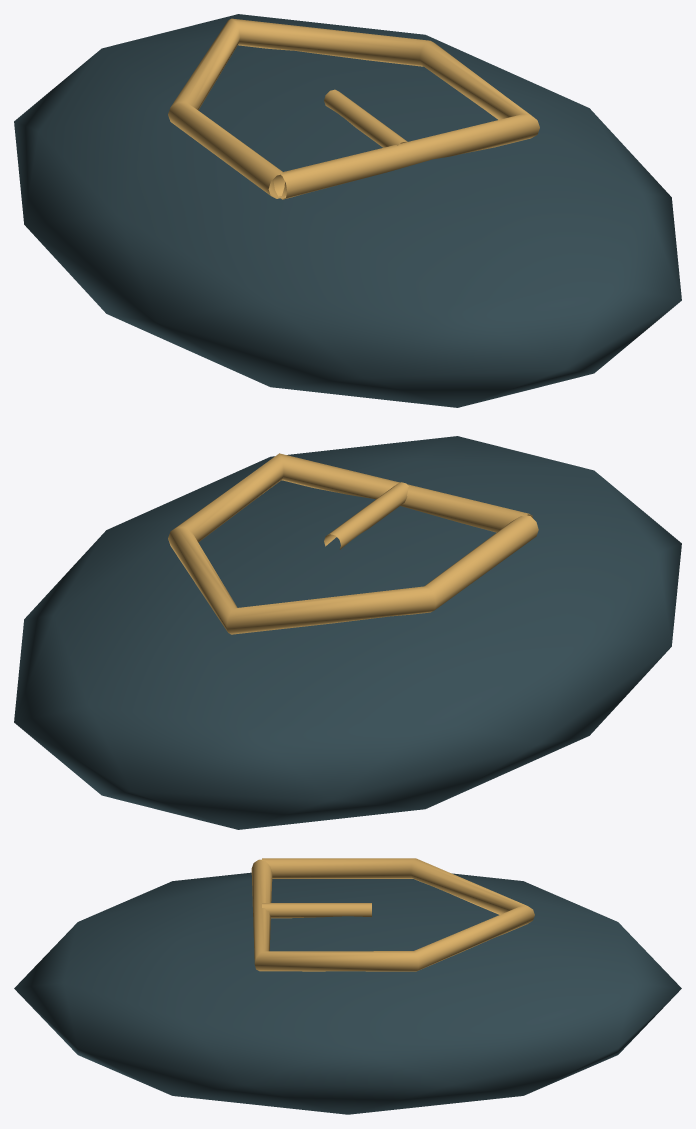
File: home-waystone-v1.glb
3 views of the same model, one above another, from view 1: azimuth 30°, elevation 25°; view 2: azimuth 150°, elevation 25°; view 3: azimuth 270°, elevation 25° (orthographic). The views are drawn at different scales.
Visible parts, largest first — view 1: Waystone, HomeRune, RuneDoor; view 2: Waystone, HomeRune, RuneDoor; view 3: Waystone, HomeRune, RuneDoor.
Part boxes in pixels (x1=…): Waystone: x1=14, y1=14, x2=681, y2=407; HomeRune: x1=168, y1=18, x2=539, y2=199; RuneDoor: x1=324, y1=89, x2=408, y2=147; Waystone: x1=14, y1=436, x2=681, y2=829; HomeRune: x1=168, y1=453, x2=538, y2=634; RuneDoor: x1=324, y1=482, x2=408, y2=549; Waystone: x1=14, y1=872, x2=681, y2=1114; HomeRune: x1=251, y1=858, x2=534, y2=971; RuneDoor: x1=262, y1=903, x2=371, y2=918.
Size of the model in its own units: 0.9587 by 0.3702 by 1.4.
